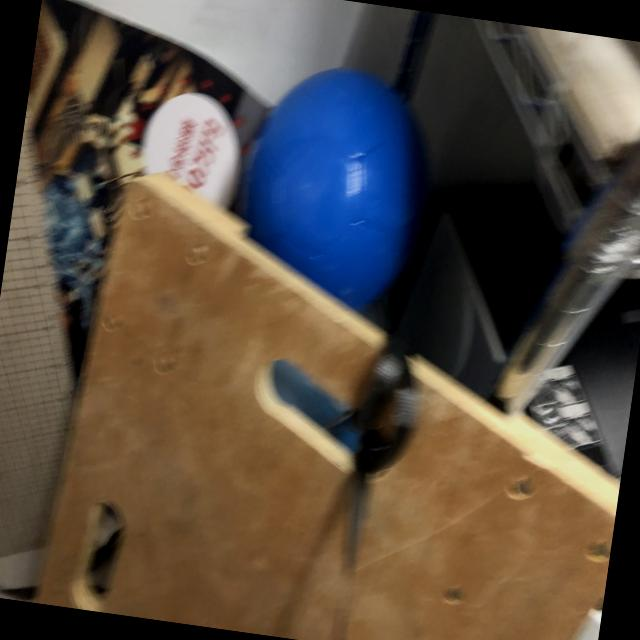blue_ball: (228, 54, 448, 323)
